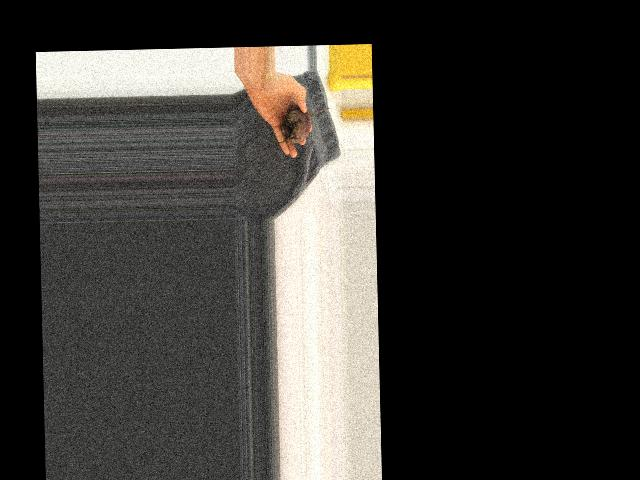beet: (280, 103, 330, 143)
